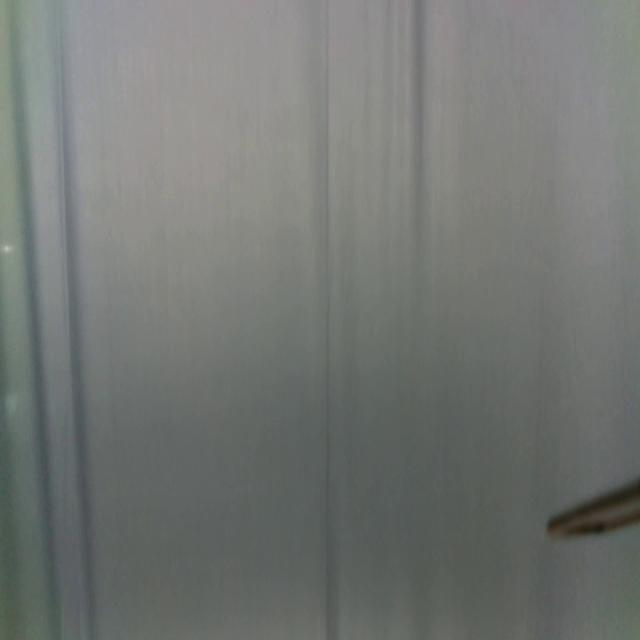crease: (322, 0, 331, 638), (58, 0, 69, 324)
